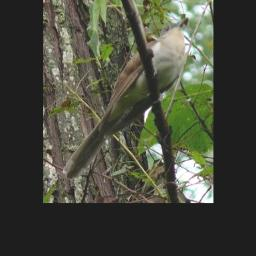Cuckoo: (63, 17, 189, 180)
